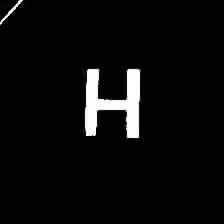LTR_H: (76, 60, 153, 146)
